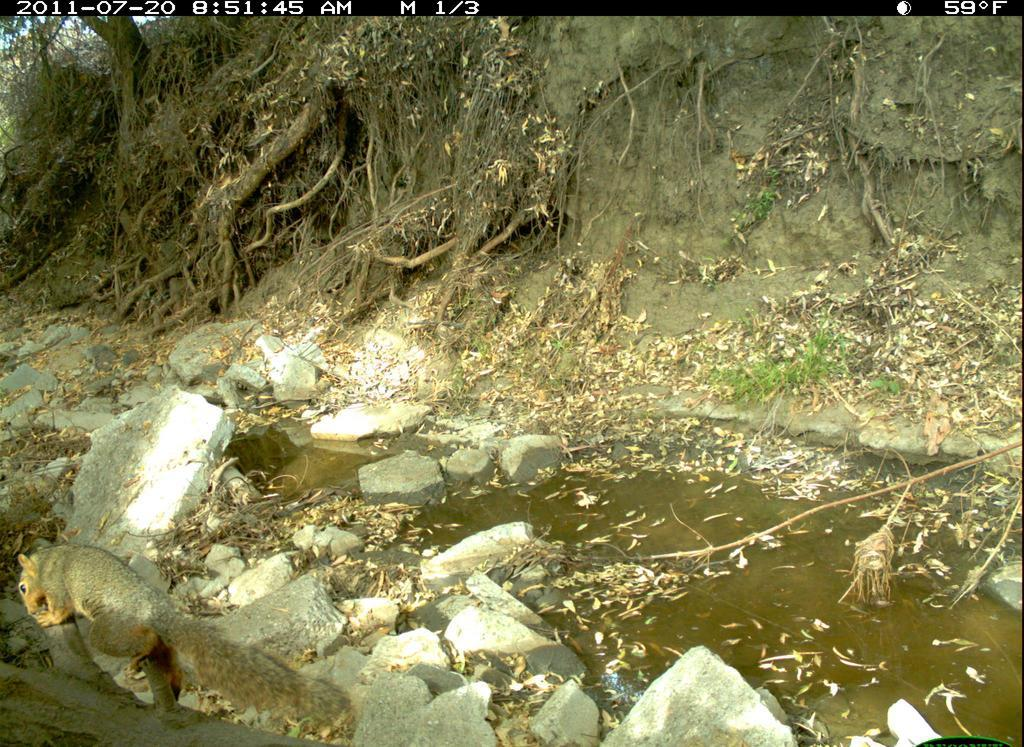squirrel: (9, 541, 364, 738)
